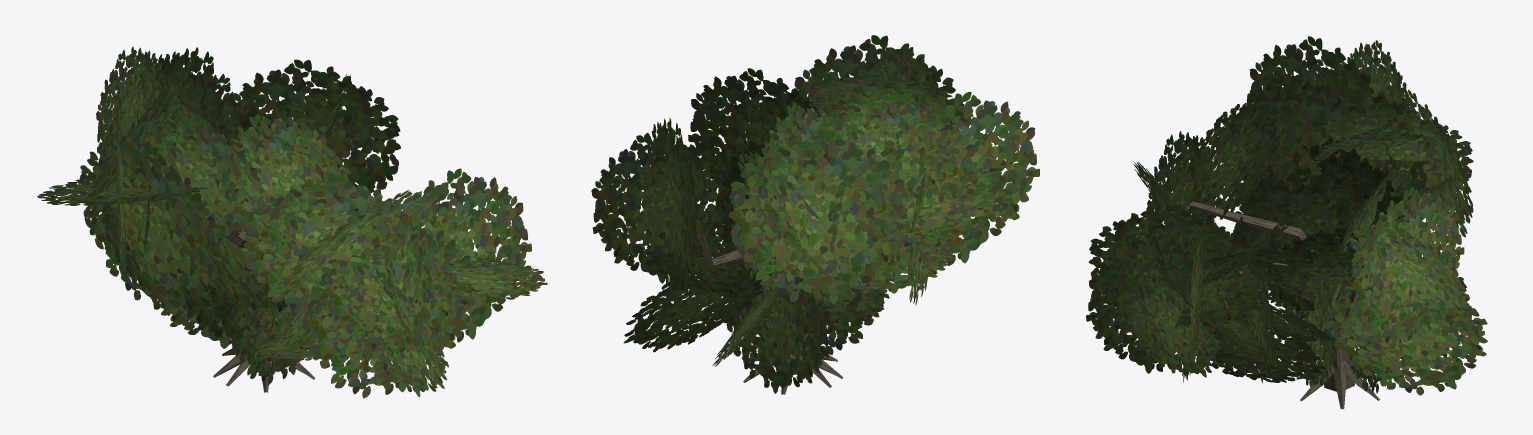
File: TwistedTree_2_LOD2.gltf
The picture shows the model from 3 angles, left to right: view 1: azimuth 30°, elevation 25°; view 2: azimuth 150°, elevation 25°; view 3: azimuth 270°, elevation 25°; orthographic projection. The views are drawn at different scales.
Parts seen in each view (by area): view 1: TwistedTree_2_LOD2; view 2: TwistedTree_2_LOD2; view 3: TwistedTree_2_LOD2.
Part boxes in pixels (bbox=[...]): TwistedTree_2_LOD2: bbox=[37, 46, 547, 398]; TwistedTree_2_LOD2: bbox=[591, 35, 1039, 394]; TwistedTree_2_LOD2: bbox=[1086, 36, 1487, 409].
Size of the model in its own units: 18.98 by 14.3 by 19.
2 materials, 2 textured.
